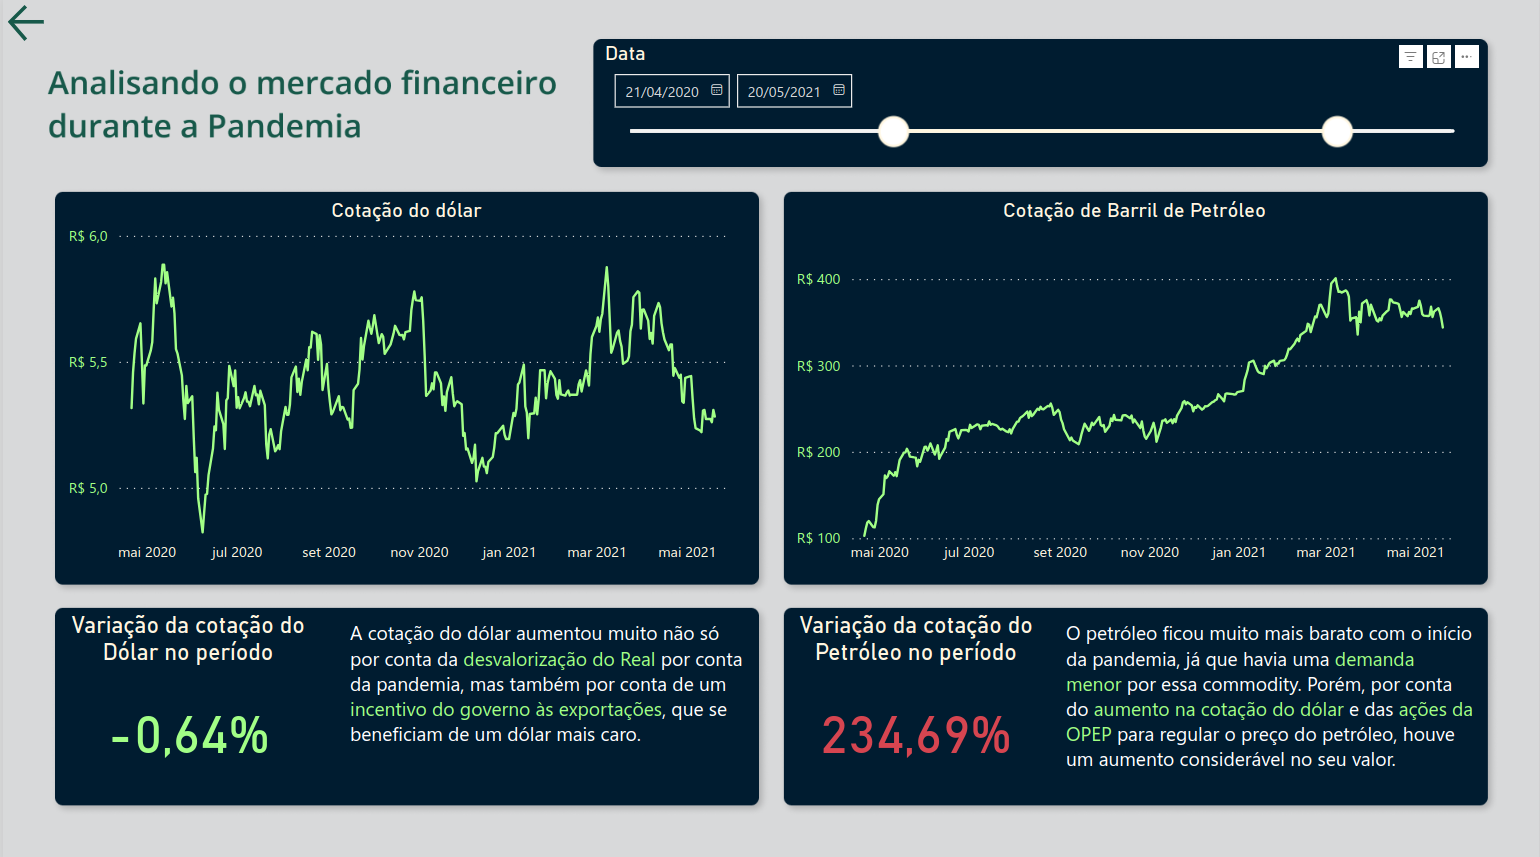

What the dashboard file says about the page in this screenshot:
{"tool":"powerbi","page":{"name":"USD_Petroleo","canvas":[1280,720],"ordinal":2},"visuals":[{"type":"lineChart","title":"Cotação do dólar","fields":{"Y":["Sum(usd_petroleo.Dólar)"],"Category":["usd_petroleo.DATA"]},"box":[49.6,168.1,574.4,311],"z":0},{"type":"lineChart","title":"Cotação de Barril de Petróleo","fields":{"Y":["Sum(usd_petroleo.Petróleo)1"],"Category":["usd_petroleo.DATA"]},"box":[656,168.1,574.4,311],"z":1000},{"type":"slicer","title":"Data","fields":{"Values":["usd_petroleo.DATA"]},"box":[496.6,37.9,733.8,96.2],"z":2000},{"type":"card","title":"Variação da cotação do Dólar no período","fields":{"Values":["Medidas.VariacaoUsd"]},"box":[49.6,512.2,209.9,154.5],"z":3000},{"type":"card","title":"Variação da cotação do Petróleo no período","fields":{"Values":["Medidas.VariacaoPetroleo"]},"box":[656,512.2,209.9,154.5],"z":4000},{"type":"textbox","box":[283.8,512.2,340.2,154.5],"z":5000},{"type":"textbox","box":[880.5,512.2,349.9,166.2],"z":6000},{"type":"actionButton","box":[0,0,49.6,39.8],"z":7000}]}

Visuals, with their boxes in screenshot pixels (x1, y1, x2, y2), scaled from the page's 1280x720 canvas onto the 1540x857 screenshot:
"Cotação do dólar" lineChart: <bbox>60, 200, 751, 570</bbox>
"Cotação de Barril de Petróleo" lineChart: <bbox>789, 200, 1480, 570</bbox>
"Data" slicer: <bbox>597, 45, 1480, 160</bbox>
"Variação da cotação do Dólar no período" card: <bbox>60, 610, 312, 794</bbox>
"Variação da cotação do Petróleo no período" card: <bbox>789, 610, 1042, 794</bbox>
textbox: <bbox>341, 610, 751, 794</bbox>
textbox: <bbox>1059, 610, 1480, 807</bbox>
actionButton: <bbox>0, 0, 60, 47</bbox>
